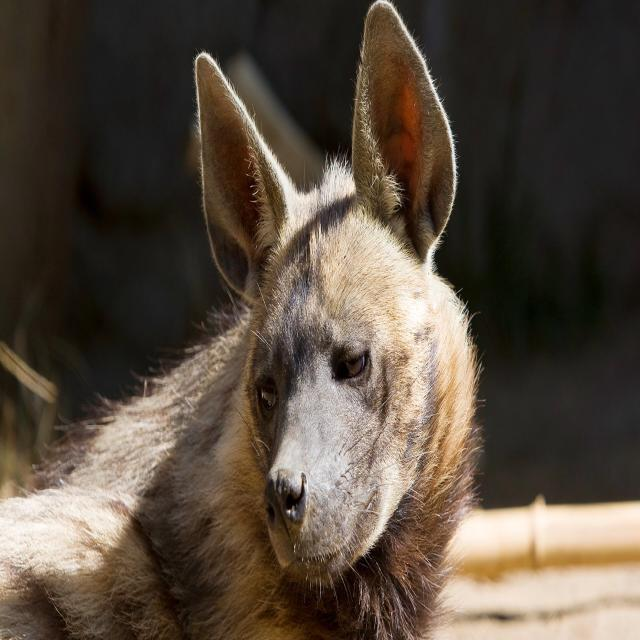Hyena: (0, 34, 495, 640)
